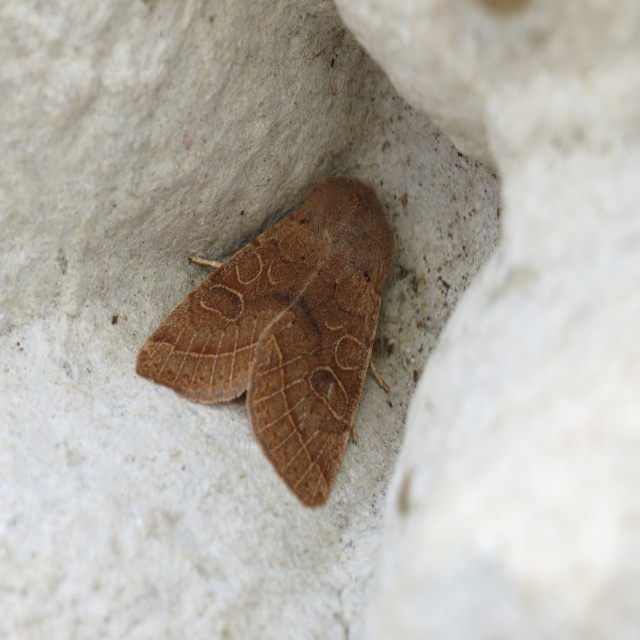Moths and butterflies: (136, 171, 397, 512)
